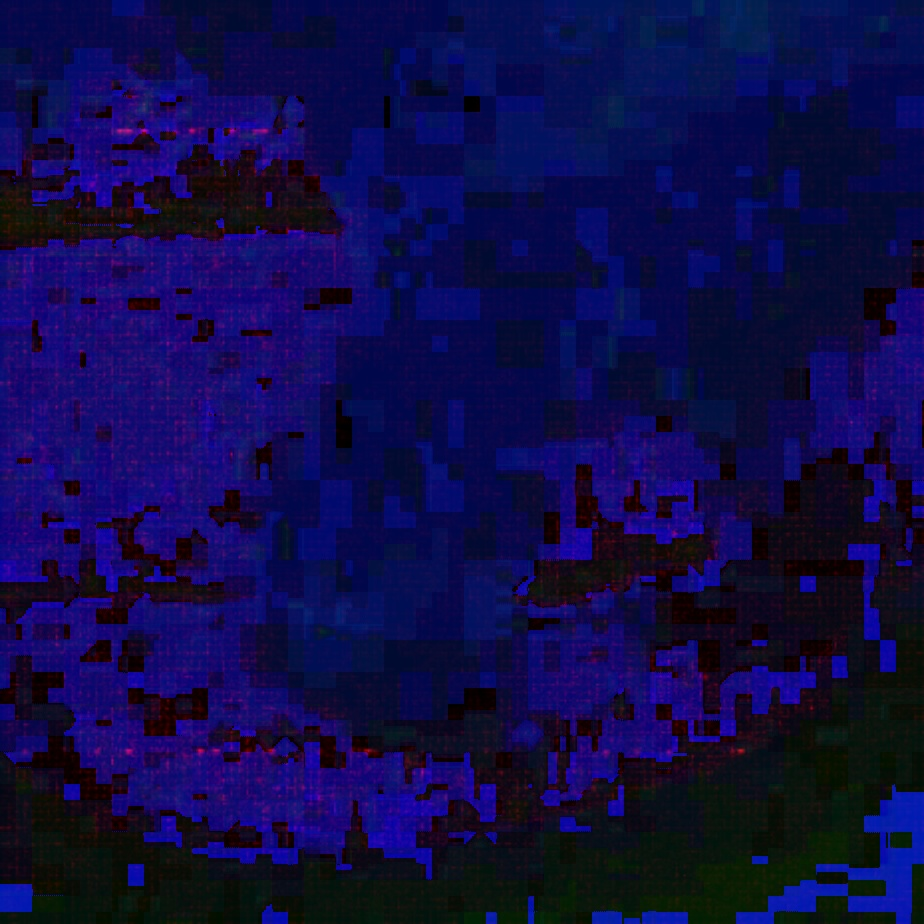rip_current: (185, 207, 662, 735)
